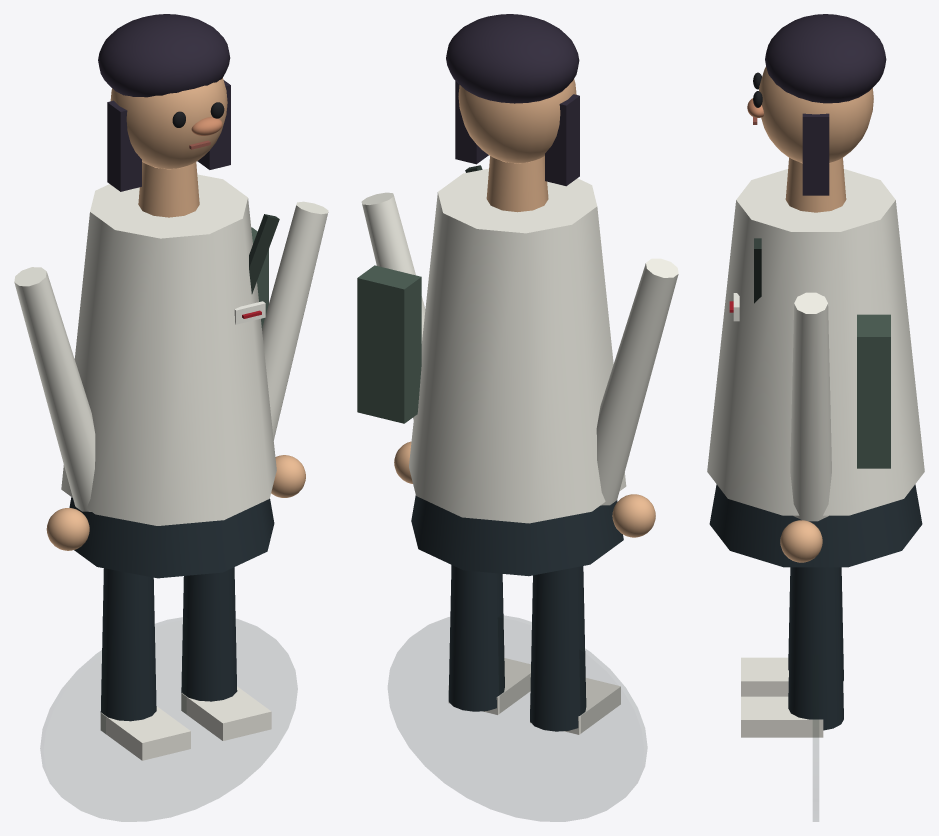
Rendered from player_female_white.glb.
The picture shows the model from 3 angles, left to right: view 1: azimuth 30°, elevation 25°; view 2: azimuth 150°, elevation 25°; view 3: azimuth 270°, elevation 25°; orthographic projection. The views are drawn at different scales.
Visible parts, largest first — view 1: torso, contact_shadow, skirt, hair_cap, arm_-0.255, leg_-0.095, leg_0.095, arm_0.255, head, shoe_-0.095, shoe_0.095, neck (+6 smaller); view 2: torso, contact_shadow, skirt, shoulder_bag, hair_cap, arm_-0.255, leg_-0.095, leg_0.095, head, neck, arm_0.255, side_hair_-0.105 (+4 smaller); view 3: torso, skirt, hair_cap, arm_0.255, leg_0.095, shoulder_bag, head, shoe_0.095, side_hair_0.105, neck, shoe_-0.095, hand_0.255 (+2 smaller).
Part boxes in pixels (x1=…): torso: x1=61, y1=174, x2=276, y2=525; contact_shadow: x1=40, y1=617, x2=297, y2=821; skirt: x1=69, y1=497, x2=274, y2=578; hair_cap: x1=98, y1=14, x2=230, y2=97; arm_-0.255: x1=14, y1=267, x2=95, y2=511; leg_-0.095: x1=100, y1=568, x2=156, y2=721; leg_0.095: x1=181, y1=567, x2=237, y2=701; arm_0.255: x1=262, y1=201, x2=328, y2=440; head: x1=110, y1=78, x2=227, y2=168; shoe_-0.095: x1=100, y1=706, x2=190, y2=760; shoe_0.095: x1=181, y1=686, x2=271, y2=740; neck: x1=138, y1=162, x2=199, y2=217; torso: x1=409, y1=168, x2=626, y2=523; contact_shadow: x1=388, y1=615, x2=646, y2=821; skirt: x1=411, y1=495, x2=623, y2=576; shoulder_bag: x1=357, y1=265, x2=421, y2=423; hair_cap: x1=446, y1=14, x2=579, y2=103; arm_-0.255: x1=596, y1=258, x2=678, y2=505; leg_-0.095: x1=530, y1=566, x2=586, y2=731; leg_0.095: x1=448, y1=565, x2=504, y2=711; head: x1=458, y1=79, x2=576, y2=163; neck: x1=486, y1=156, x2=548, y2=212; arm_0.255: x1=361, y1=192, x2=425, y2=419; side_hair_-0.105: x1=545, y1=94, x2=579, y2=186; torso: x1=707, y1=169, x2=924, y2=515; skirt: x1=709, y1=484, x2=922, y2=567; hair_cap: x1=765, y1=14, x2=886, y2=103; arm_0.255: x1=790, y1=292, x2=831, y2=521; leg_0.095: x1=788, y1=567, x2=843, y2=730; shoulder_bag: x1=857, y1=314, x2=890, y2=468; head: x1=759, y1=67, x2=873, y2=162; shoe_0.095: x1=741, y1=696, x2=823, y2=737; side_hair_0.105: x1=802, y1=113, x2=829, y2=195; neck: x1=785, y1=157, x2=846, y2=212; shoe_-0.095: x1=741, y1=657, x2=788, y2=696; hand_0.255: x1=780, y1=520, x2=822, y2=562.
Size of the model in its own units: 0.7142 by 1.74 by 0.441.
